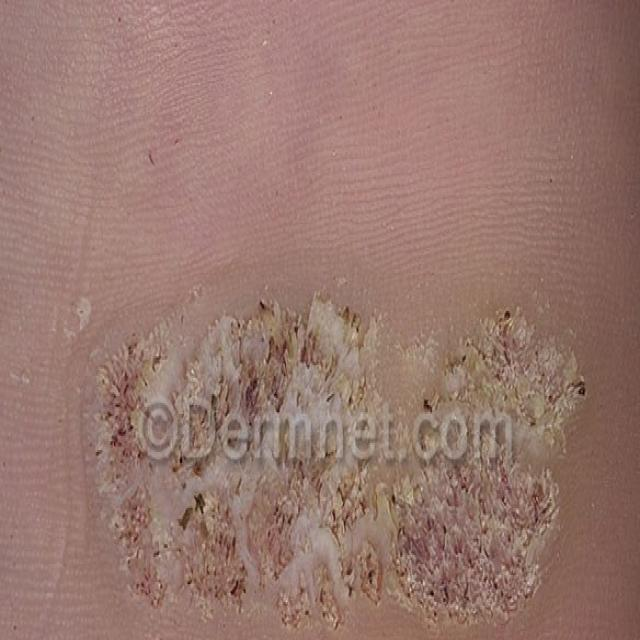Warts: (54, 228, 604, 640)
